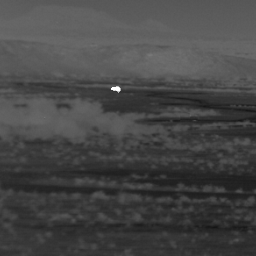Target: (110, 85, 122, 93)
